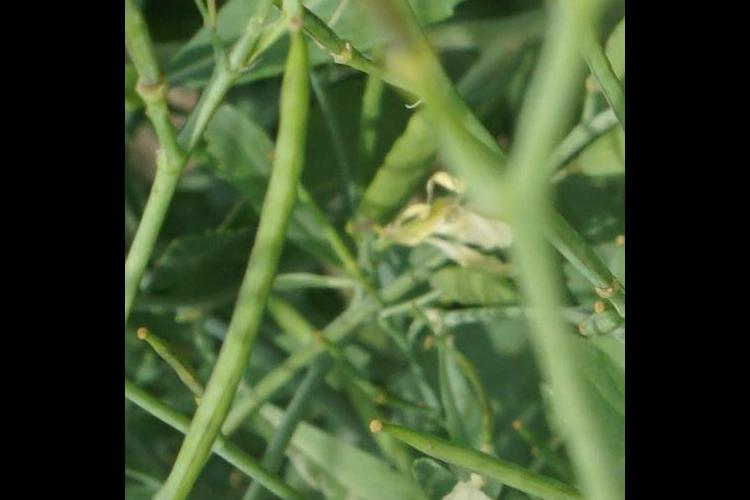pod: (244, 2, 331, 341), (361, 414, 552, 495), (135, 284, 246, 423), (502, 1, 614, 85), (147, 1, 348, 32)
